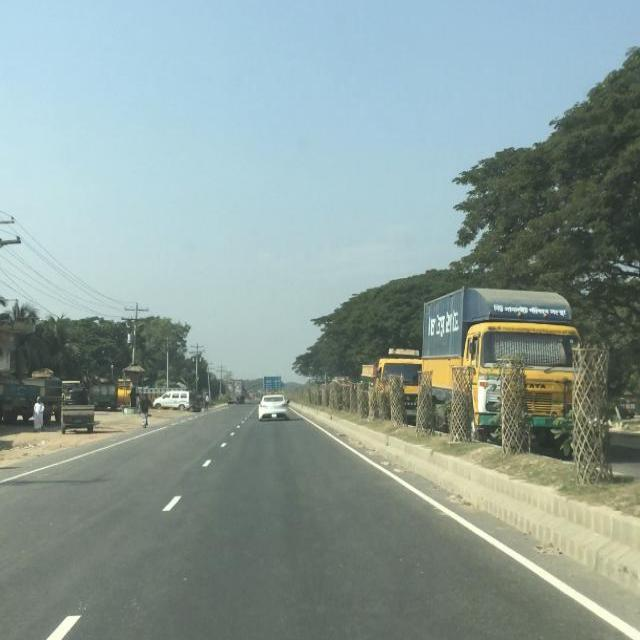car: (255, 392, 289, 419)
minivan: (151, 388, 195, 409)
pickup: (57, 382, 95, 435)
truck: (418, 282, 574, 455), (359, 351, 421, 414), (260, 373, 282, 391)
